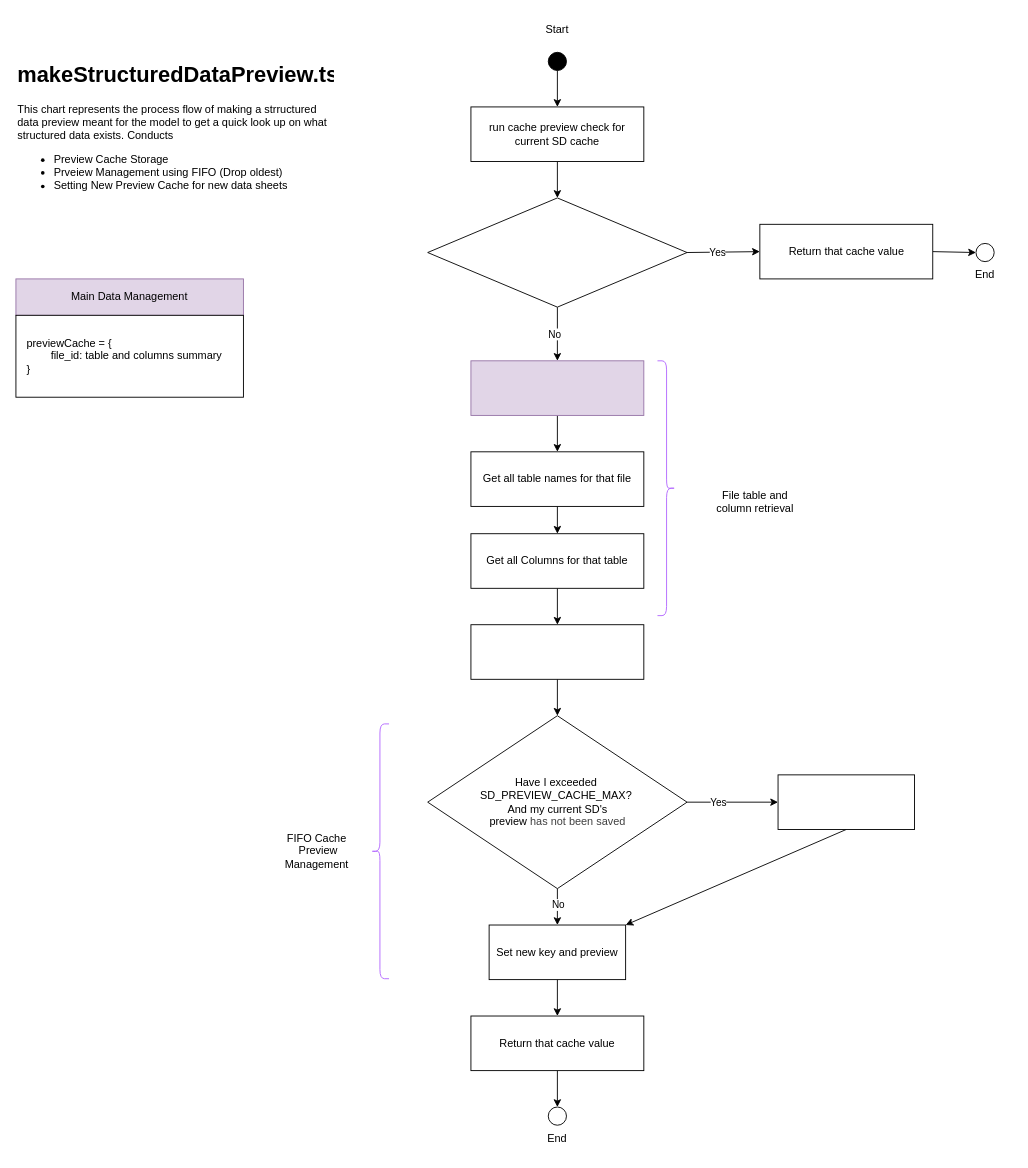
This 1028x1168 diagram has some shape labels left out. The shapes that lost their labels are listed below. From the top down, each one's box as (x1, y1, x2, y2) in pixels, then its label:
(427, 197, 687, 307): Does this SD already have a cache?
(470, 360, 644, 415): Load file into duckDB WASM as a DB using getOrCreateDb() 1 file = 1 DB
(470, 624, 644, 679): Join Details as a single string
(777, 774, 915, 829): Delete Oldest Key
